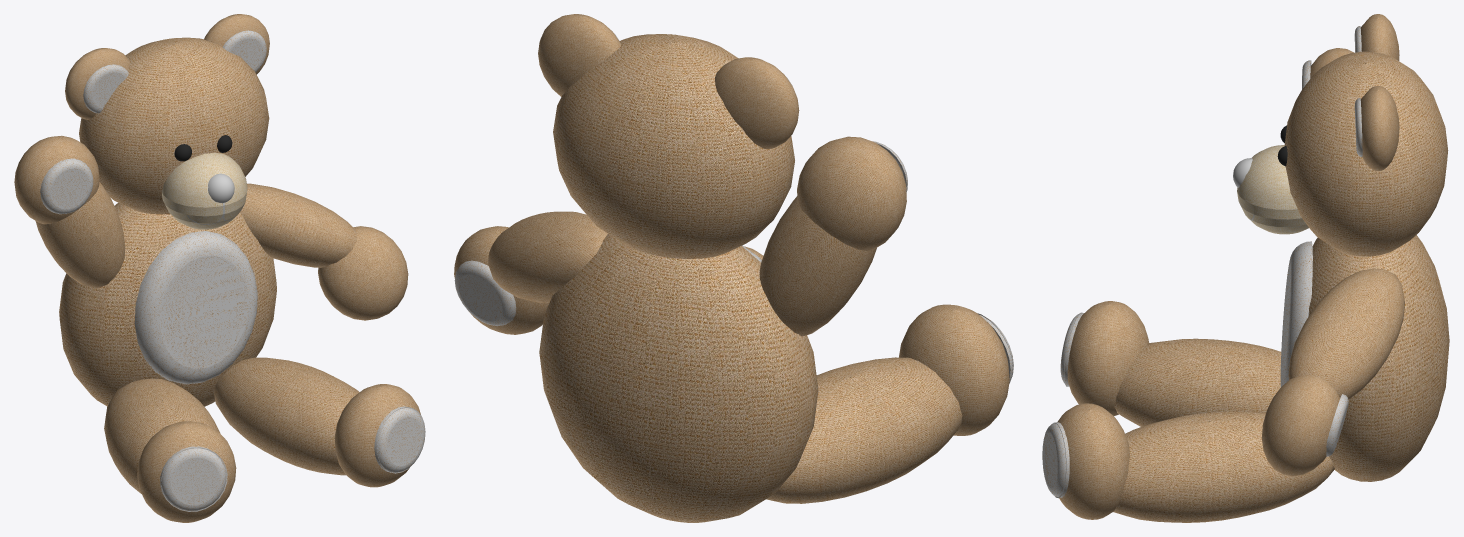
The model's file is teddybear.dae.
3 renders of one model, left to right at view 1: azimuth 30°, elevation 25°; view 2: azimuth 150°, elevation 25°; view 3: azimuth 270°, elevation 25°, orthographic. The views are drawn at different scales.
Parts seen in each view (by area): view 1: Sphere_2 (×2), Sphere_1, Sphere_5 (×2), Sphere_6 (×4), Sphere_7 (×2), Sphere_10 (×3), Sphere_4 (×4), Sphere_3, Sphere_8; view 2: Sphere_2, Sphere_1, Sphere_5, Sphere_7 (×2), Sphere_10 (×3), Sphere_4 (×2), Sphere_6; view 3: Sphere_5 (×2), Sphere_1, Sphere_2 (×2), Sphere_6 (×4), Sphere_7, Sphere_10 (×3), Sphere_4 (×2), Sphere_3.
Part boxes in pixels (x1,y1,x2,y2): Sphere_2 (×2): (59, 203, 276, 406); Sphere_1: (79, 37, 269, 214); Sphere_5 (×2): (104, 357, 359, 493); Sphere_6 (×4): (137, 384, 425, 522); Sphere_7 (×2): (35, 182, 356, 288); Sphere_10 (×3): (14, 135, 408, 320); Sphere_4 (×4): (65, 14, 269, 119); Sphere_3: (162, 152, 247, 229); Sphere_8: (208, 173, 234, 203); Sphere_2: (539, 234, 818, 522); Sphere_1: (553, 34, 794, 258); Sphere_5: (766, 357, 962, 503); Sphere_7 (×2): (488, 196, 876, 336); Sphere_10 (×3): (454, 136, 906, 334); Sphere_4 (×2): (538, 14, 799, 148); Sphere_6: (899, 304, 1009, 435); Sphere_5 (×2): (1113, 338, 1334, 522); Sphere_1: (1284, 51, 1448, 256); Sphere_2 (×2): (1280, 235, 1449, 481); Sphere_6 (×4): (1042, 301, 1148, 519); Sphere_7: (1288, 268, 1404, 399); Sphere_10 (×3): (1262, 48, 1353, 476); Sphere_4 (×2): (1360, 14, 1399, 170); Sphere_3: (1237, 145, 1308, 234).
Bounding box in the file's own units: 24.26 × 21.03 × 24.38.
